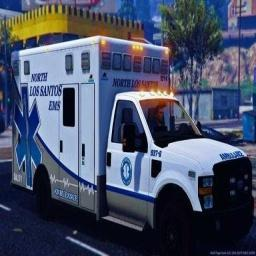ambulance: (12, 36, 252, 254)
